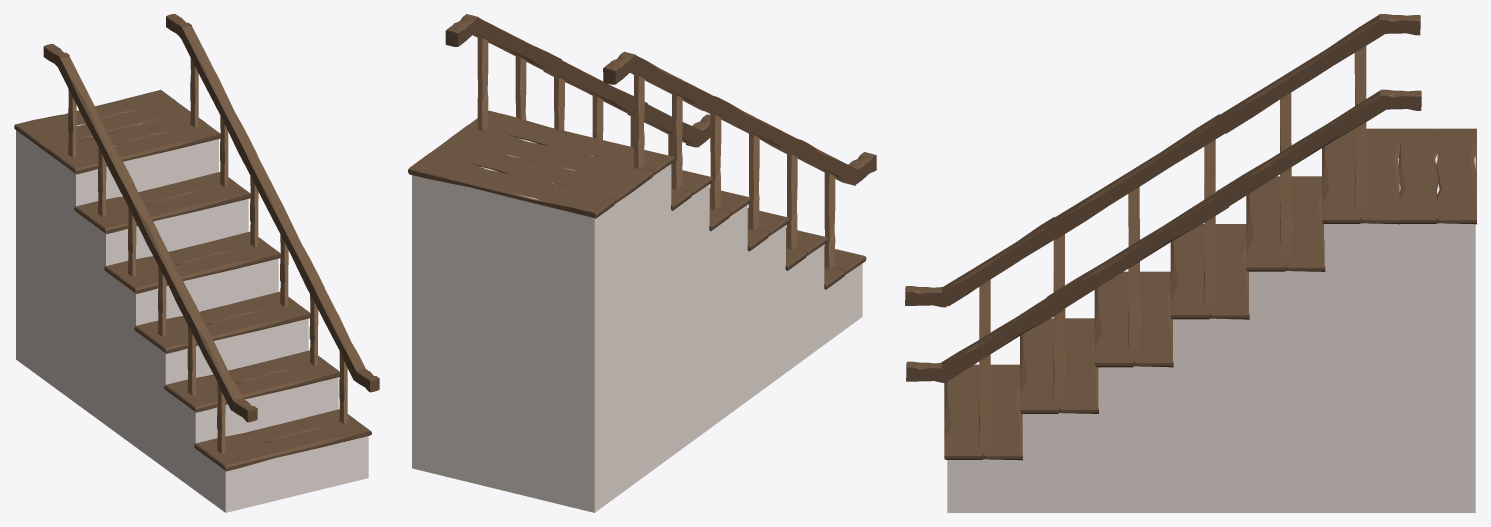
The model's file is PK_Stairs_Wood.fbx.
The picture shows the model from 3 angles, left to right: view 1: azimuth 30°, elevation 25°; view 2: azimuth 150°, elevation 25°; view 3: azimuth 270°, elevation 25°; orthographic projection. The views are drawn at different scales.
Visible parts, largest first — view 1: PK_Stairs_Wood; view 2: PK_Stairs_Wood; view 3: PK_Stairs_Wood.
Boxes of the visible parts, x1,y1,x2,y2 form: PK_Stairs_Wood: (14,14,379,512); PK_Stairs_Wood: (408,14,876,512); PK_Stairs_Wood: (905,14,1476,512).
Bounding box in the file's own units: 122 × 260 × 325.
